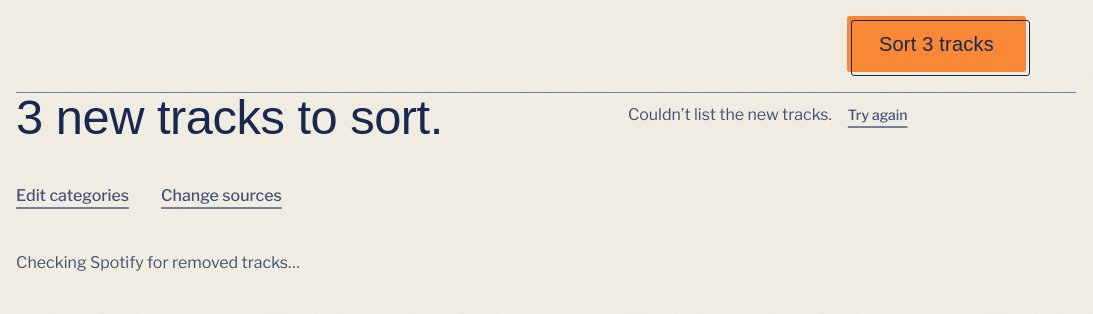
Scenario: /diff › keeps the way forward when the list can't be read, and lists again on Try again
Check: the text "Couldn’t list the new tracks." is shown, box [628, 103, 832, 128]
Check: the heading "3 new tracks to sort." is shown, box [16, 90, 443, 144]
What coordinates should you click on to do the following:
click the button "Try again"
I would click on:
 (878, 115)
Its box is [848, 93, 907, 137].
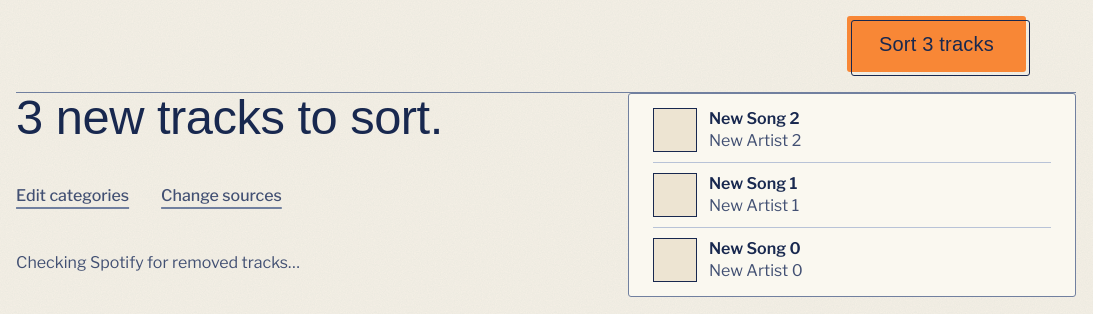
Check: the number of links "New Song 2" is 3, box [709, 109, 800, 128]; [709, 174, 797, 193]; [709, 239, 801, 258]
Check: the text "Couldn’t list the new tracks." is gone
